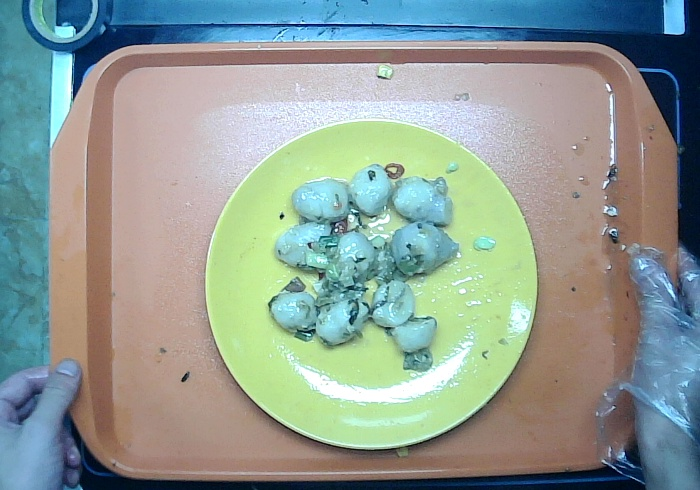HZYJPL-Huang_Se_Yuan_Pan: (203, 118, 538, 451)
